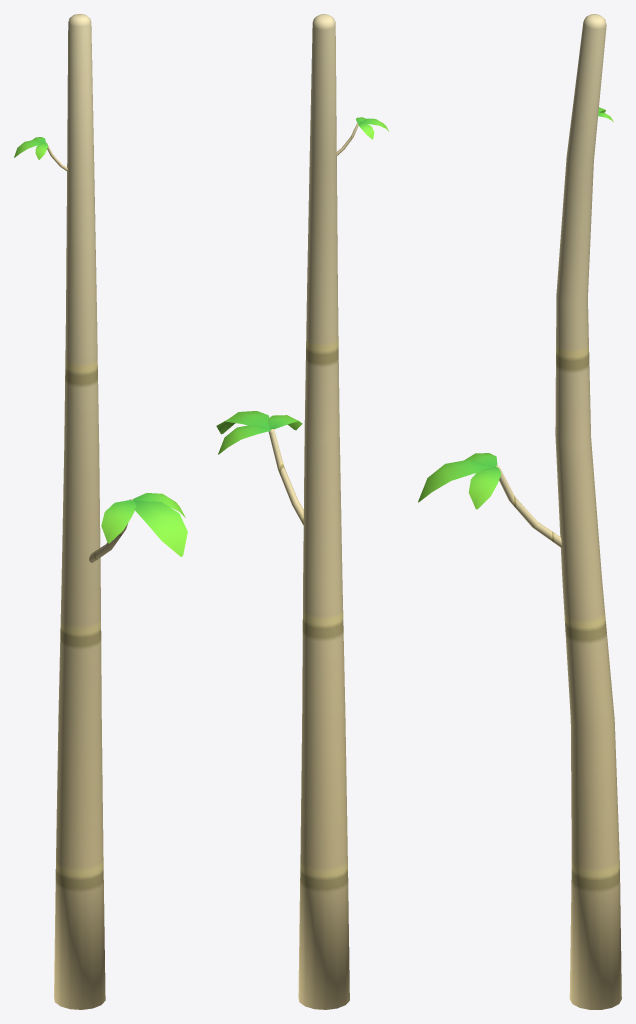
File: Bamboo_B.fbx
The picture shows the model from 3 angles, left to right: view 1: azimuth 30°, elevation 25°; view 2: azimuth 210°, elevation 25°; view 3: azimuth 270°, elevation 25°; orthographic projection.
Parts seen in each view (by area): view 1: Bamboo_B; view 2: Bamboo_B; view 3: Bamboo_B.
Boxes of the visible parts, x1=… form: Bamboo_B: x1=14, y1=14, x2=187, y2=1009; Bamboo_B: x1=216, y1=14, x2=388, y2=1009; Bamboo_B: x1=418, y1=14, x2=621, y2=1009.
Bounding box in the file's own units: 37.52 × 321 × 60.28.
